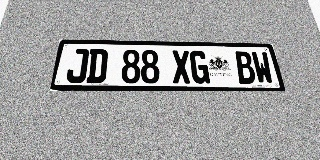8: (121, 49, 141, 83), (141, 50, 160, 83)
B: (234, 51, 257, 84)
D: (86, 49, 108, 83)
G: (189, 51, 210, 84)
J: (65, 49, 89, 83)
W: (251, 52, 275, 84)
X: (171, 50, 191, 84)
